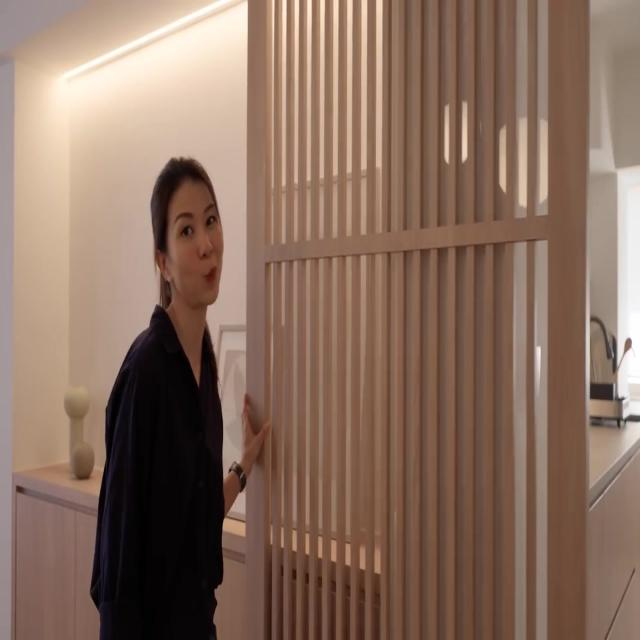obstacle: (586, 440, 640, 639)
person: (89, 155, 271, 639)
